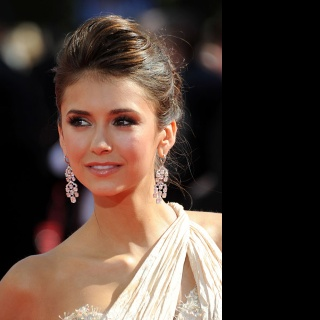without_mask: (60, 72, 161, 196)
